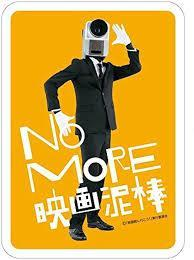no more kid: (82, 18, 111, 60)
